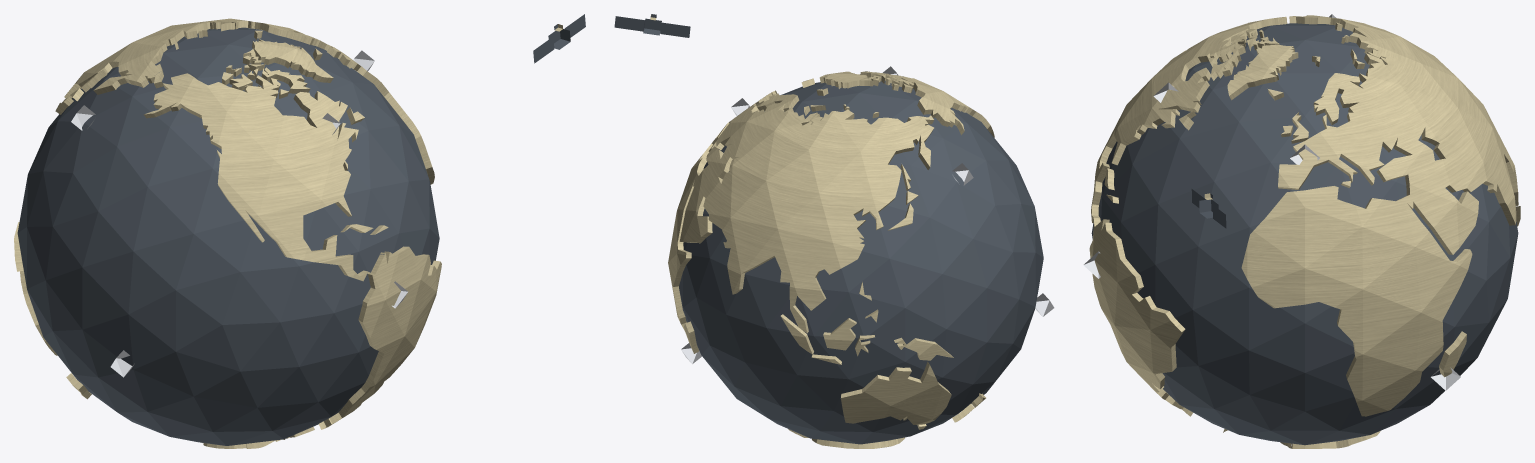
The model's file is atlas_globe_v6.glb.
3 renders of one model, left to right at view 1: azimuth 30°, elevation 25°; view 2: azimuth 150°, elevation 25°; view 3: azimuth 270°, elevation 25°, orthographic. The views are drawn at different scales.
Parts seen in each view (by area): view 1: LowPolyEarthGlobe, Satellite; view 2: LowPolyEarthGlobe, Satellite; view 3: LowPolyEarthGlobe, Satellite.
Part boxes in pixels (x1=…): LowPolyEarthGlobe: x1=14, y1=18, x2=441, y2=448; Satellite: x1=533, y1=14, x2=585, y2=63; LowPolyEarthGlobe: x1=668, y1=71, x2=1043, y2=448; Satellite: x1=614, y1=14, x2=690, y2=37; LowPolyEarthGlobe: x1=1089, y1=15, x2=1520, y2=448; Satellite: x1=1191, y1=189, x2=1226, y2=228.
Size of the model in its own units: 2.74 by 2.05 by 2.05.
Materials: 3 (1 with a texture image).
